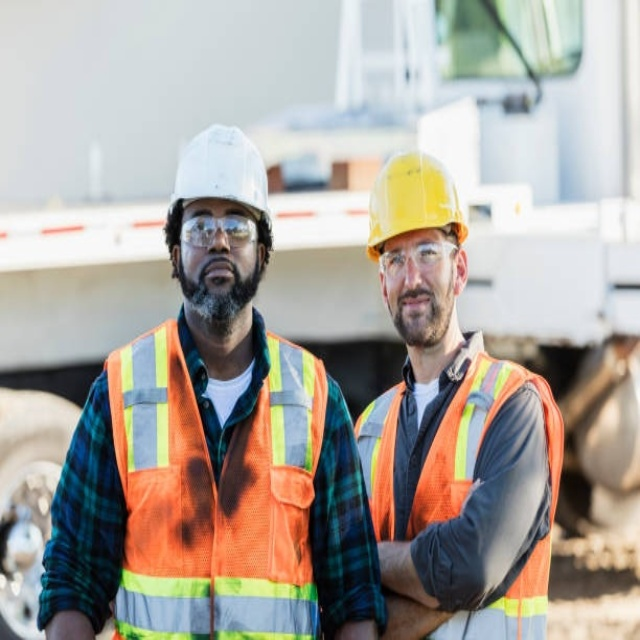Gafas: (378, 239, 459, 279), (180, 214, 261, 248)
Sin_mascara: (197, 254, 242, 295), (396, 289, 437, 331)
